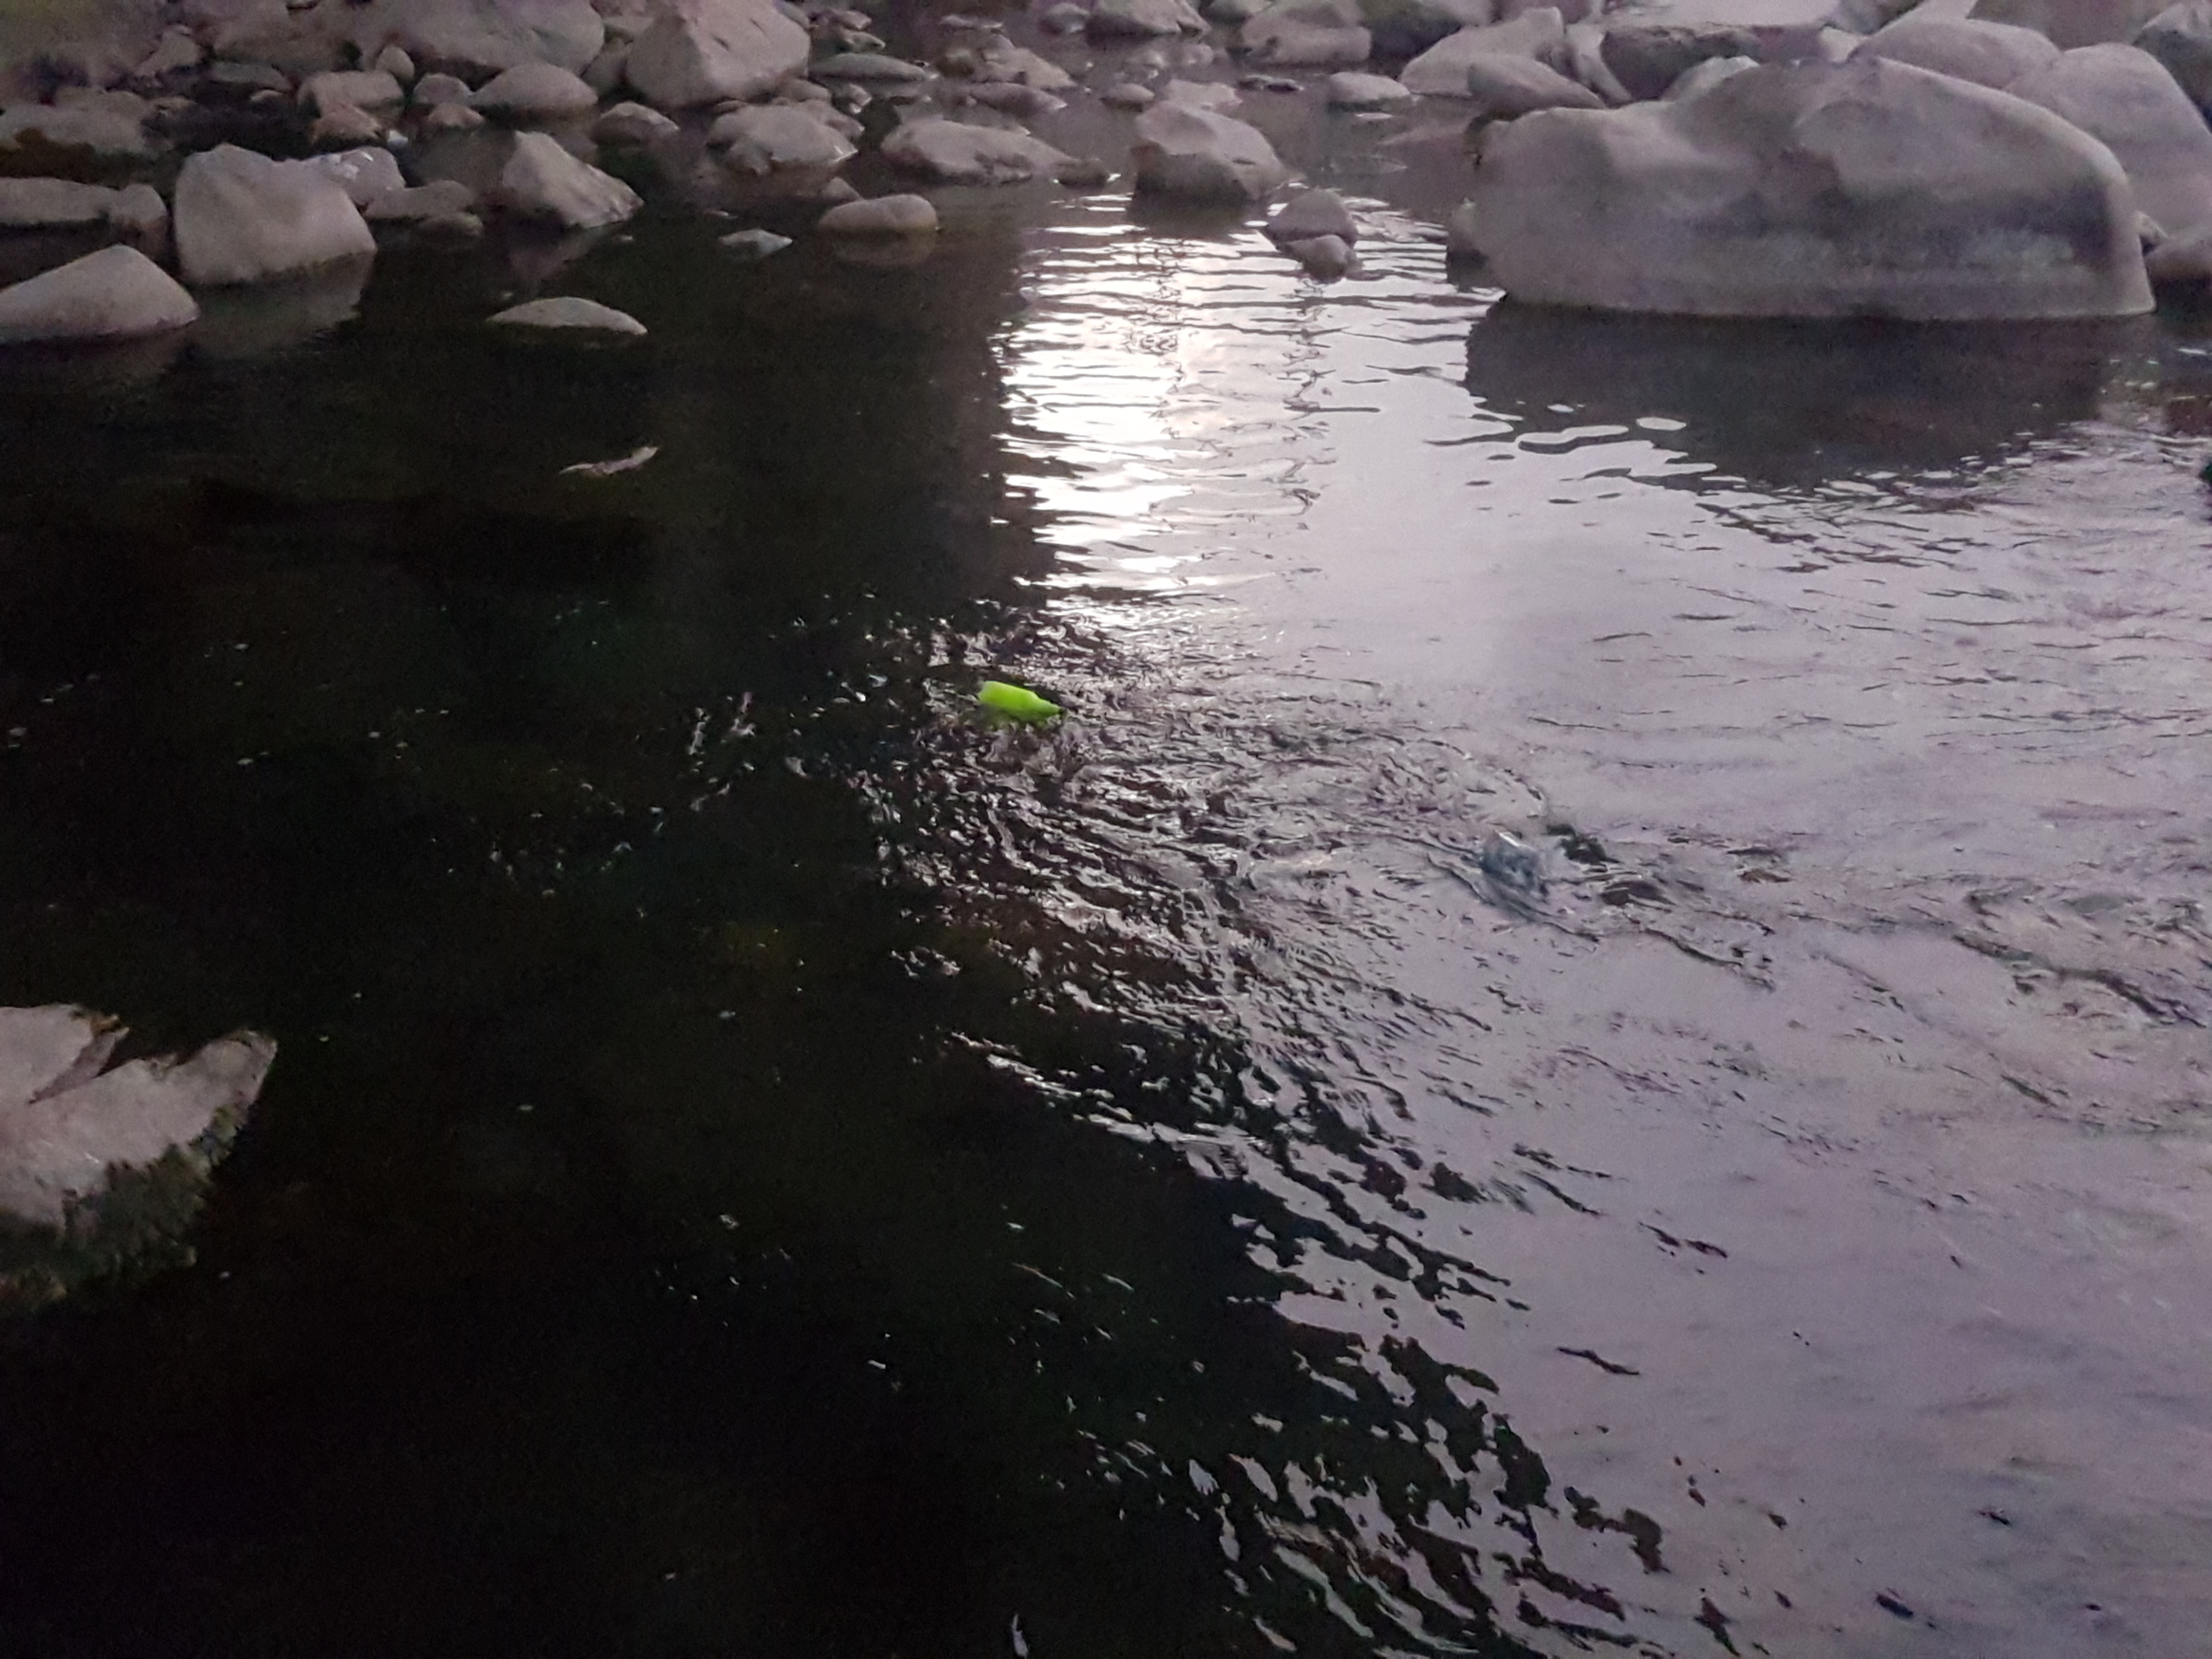Plastic Bottle: (979, 680, 1064, 713), (1484, 830, 1540, 877)
